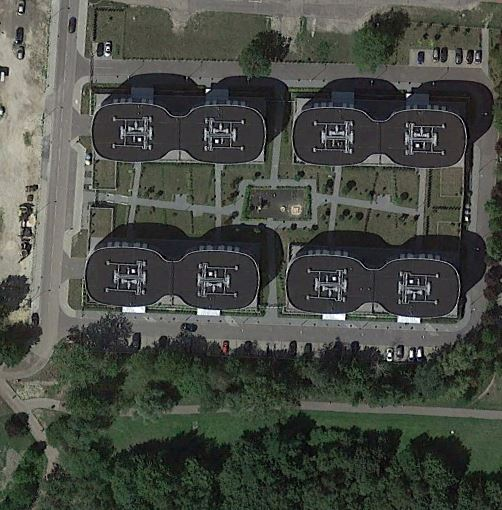block of flats: (283, 247, 465, 321), (288, 103, 470, 177), (88, 95, 270, 169), (80, 242, 262, 316)
